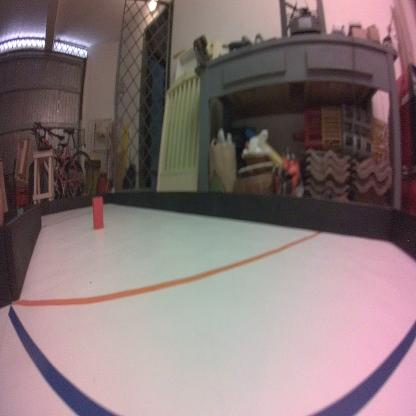red: (90, 193, 104, 231)
